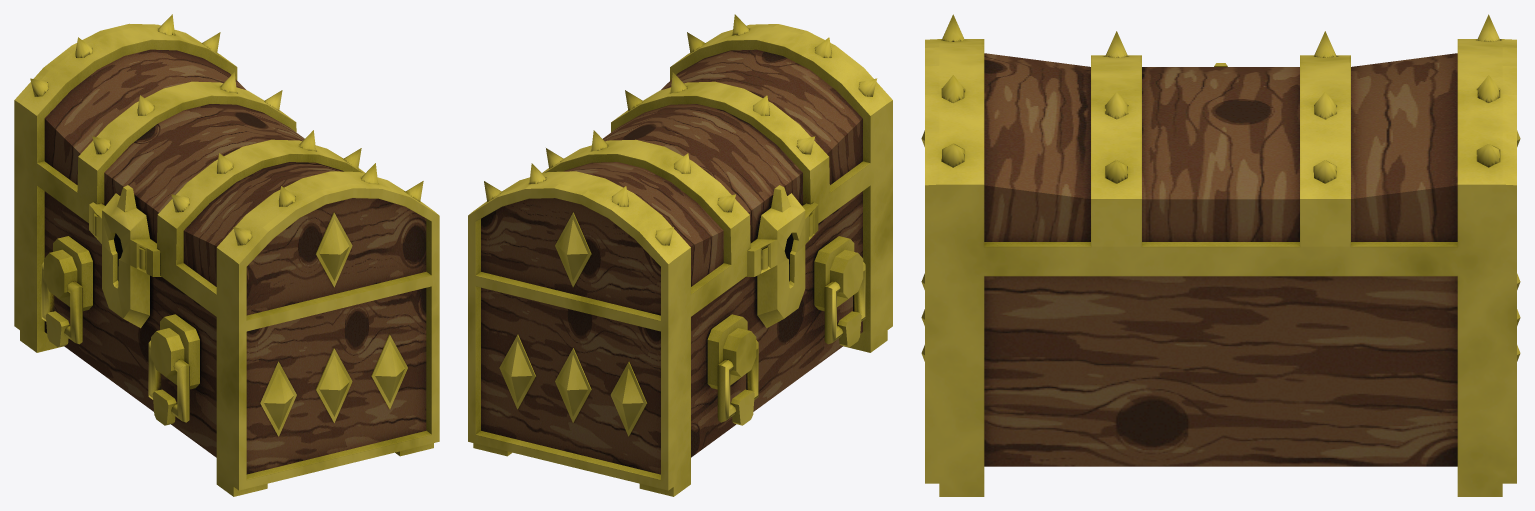
Rendered from dower chest.obj.
3 views of the same model, side by side, from view 1: azimuth 30°, elevation 25°; view 2: azimuth 150°, elevation 25°; view 3: azimuth 270°, elevation 25° (orthographic). The views are drawn at different scales.
Visible parts, largest first — view 1: Box002; view 2: Box002; view 3: Box002.
Part boxes in pixels (<box>): Box002: <box>14,14,439,496</box>; Box002: <box>468,14,892,496</box>; Box002: <box>921,14,1520,496</box>.
Bounding box in the file's own units: 23.77 × 30.39 × 42.51.
